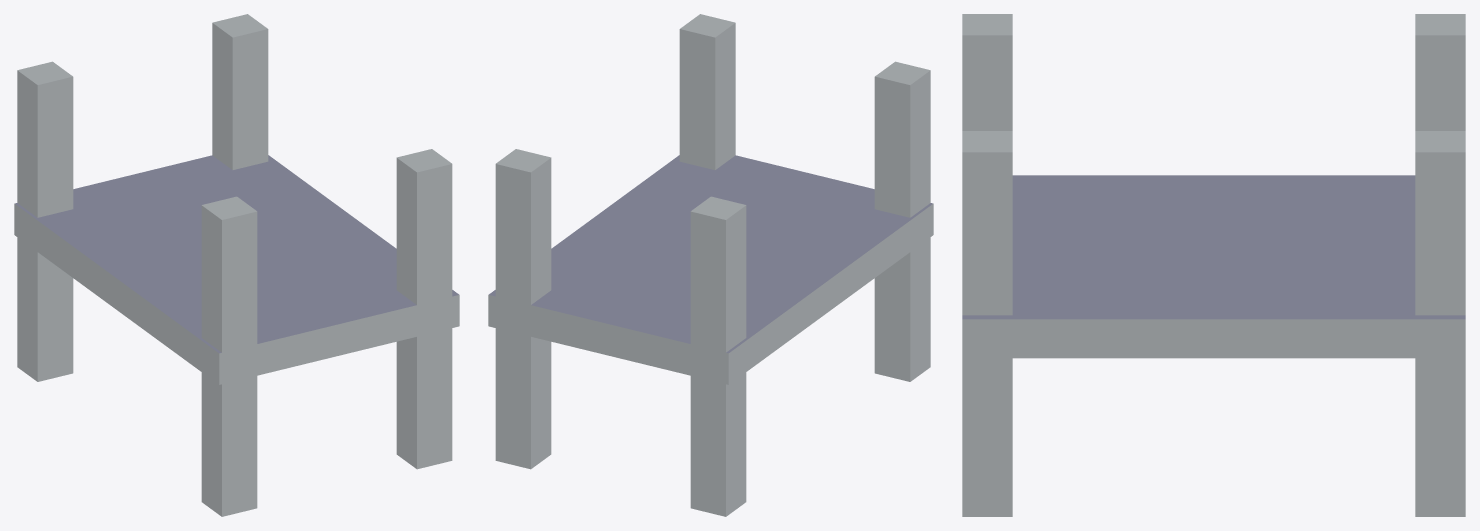
The model's file is shelf.glb.
The picture shows the model from 3 angles, left to right: view 1: azimuth 30°, elevation 25°; view 2: azimuth 150°, elevation 25°; view 3: azimuth 270°, elevation 25°; orthographic projection. The views are drawn at different scales.
Visible parts, largest first — view 1: shelf; view 2: shelf; view 3: shelf.
Part boxes in pixels (x1,y1,x2,y2): shelf: [14, 14, 459, 516]; shelf: [488, 14, 933, 516]; shelf: [962, 14, 1465, 516].
Size of the model in its own units: 1.36 by 1.6 by 2.
Materials: 1 (1 with a texture image).
